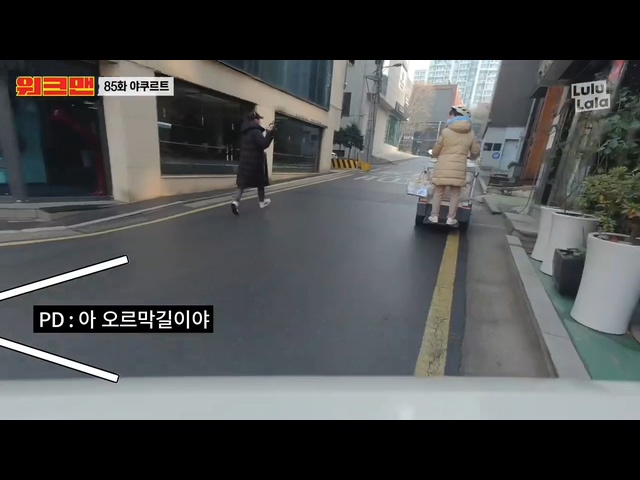Yakurut: (432, 102, 485, 231)
